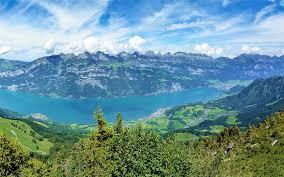mountain: (9, 50, 278, 177)
sky: (5, 2, 277, 54)
